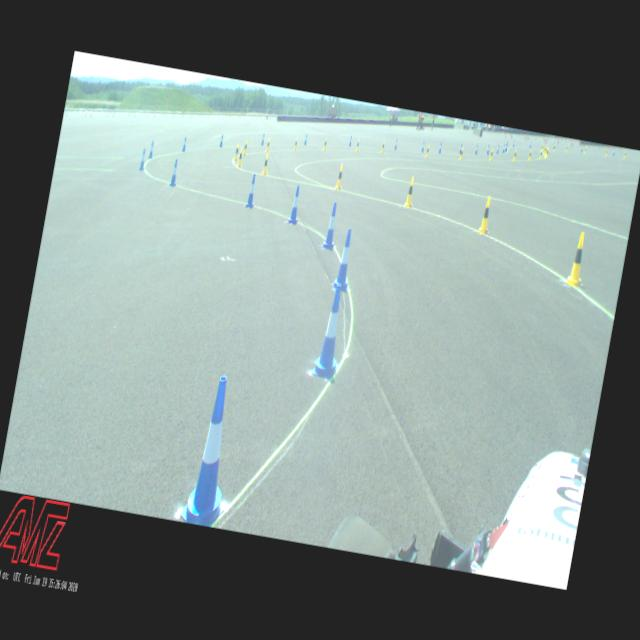blue_cone: (178, 372, 247, 528), (311, 281, 352, 380), (332, 228, 358, 292), (322, 201, 341, 250), (288, 184, 303, 224), (244, 172, 259, 208), (168, 158, 180, 186), (138, 148, 147, 170), (181, 136, 188, 152), (148, 140, 154, 158), (218, 134, 224, 146), (260, 133, 265, 145), (348, 134, 352, 146), (420, 140, 424, 152), (474, 143, 478, 154), (438, 141, 442, 152), (458, 143, 462, 154), (394, 138, 398, 149), (486, 144, 490, 154), (304, 134, 308, 144), (496, 142, 500, 152), (504, 142, 508, 152), (501, 143, 505, 152), (612, 148, 615, 155), (512, 140, 514, 148), (552, 142, 554, 150), (580, 145, 582, 152)
yellow_cone: (565, 230, 591, 288), (478, 195, 495, 234), (402, 175, 418, 207), (335, 163, 345, 189), (262, 151, 270, 175), (237, 146, 244, 166), (233, 142, 240, 160), (242, 139, 248, 156), (264, 137, 270, 152), (458, 146, 464, 160), (322, 137, 328, 150), (424, 144, 430, 157), (488, 148, 494, 160), (354, 139, 360, 151), (380, 140, 385, 152), (512, 149, 517, 161), (527, 148, 532, 160), (294, 137, 298, 150), (538, 150, 542, 160), (552, 144, 556, 152), (604, 148, 608, 156), (540, 144, 544, 152), (546, 148, 549, 158), (544, 146, 547, 156), (543, 145, 546, 154), (565, 144, 568, 152), (623, 150, 626, 158), (584, 146, 586, 154)
